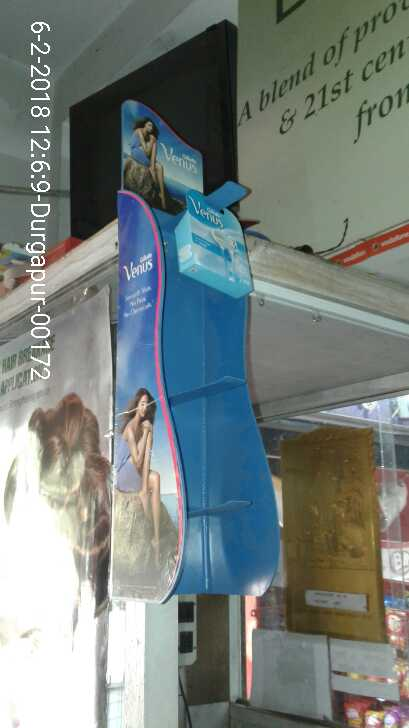venus: (173, 189, 262, 299)
